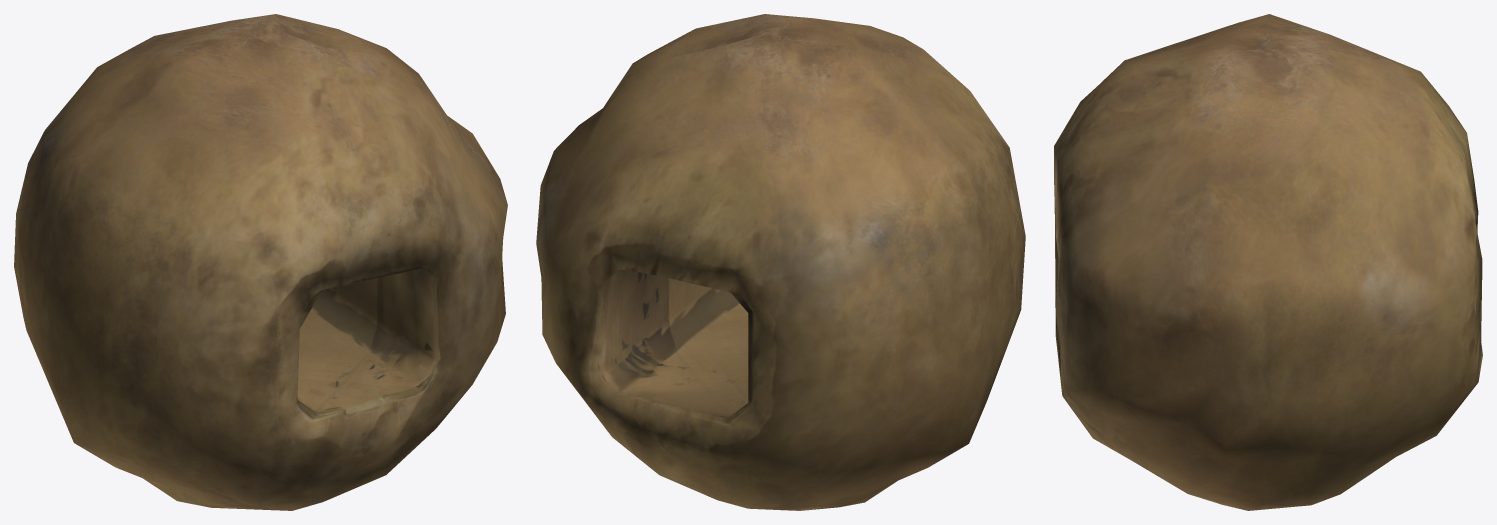
The model's file is asteroid_passage.glb.
3 views of the same model, side by side, from view 1: azimuth 30°, elevation 25°; view 2: azimuth 150°, elevation 25°; view 3: azimuth 270°, elevation 25° (orthographic). The views are drawn at different scales.
Parts seen in each view (by area): view 1: Mesh1.0; view 2: Mesh1.0; view 3: Mesh1.0.
Part boxes in pixels (left/top/right/bottom): Mesh1.0: left=14, top=14, right=507, bottom=510; Mesh1.0: left=536, top=14, right=1025, bottom=510; Mesh1.0: left=1054, top=14, right=1482, bottom=510.
Size of the model in its own units: 1.96 by 2.02 by 1.76.
Materials: 1 (1 with a texture image).
